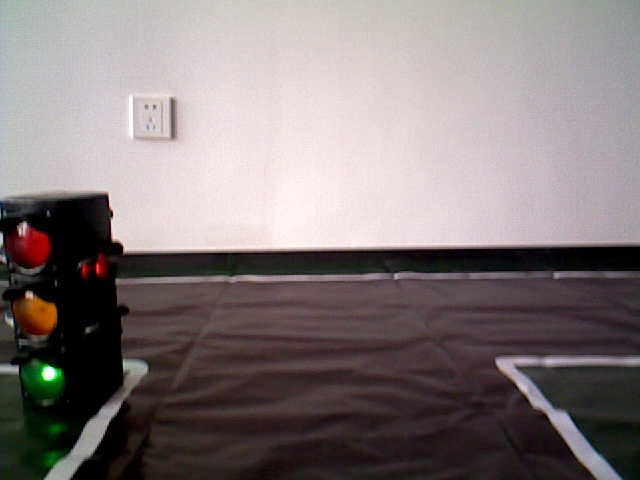green: (6, 203, 113, 401)
